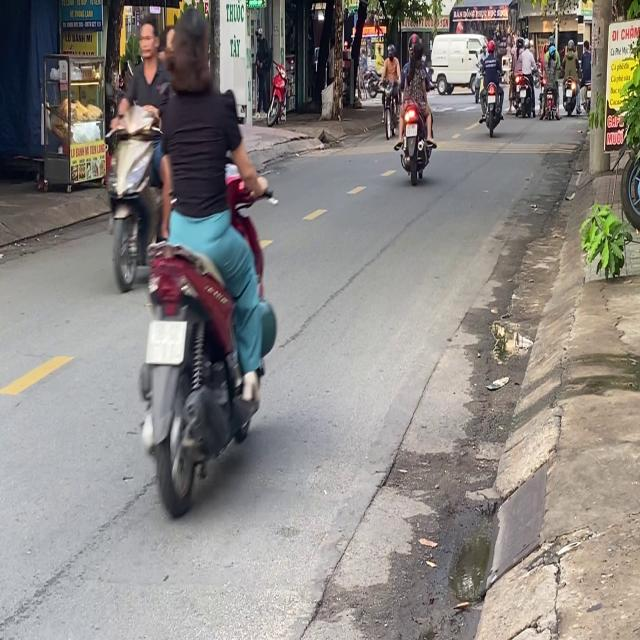helmet: (407, 33, 420, 56)
licenseplate: (136, 4, 278, 514), (101, 17, 168, 292), (394, 31, 436, 182)
motorcyclist: (164, 7, 212, 94), (136, 20, 158, 72), (412, 40, 423, 61)
nohelmet: (145, 321, 187, 364), (406, 124, 417, 137)
